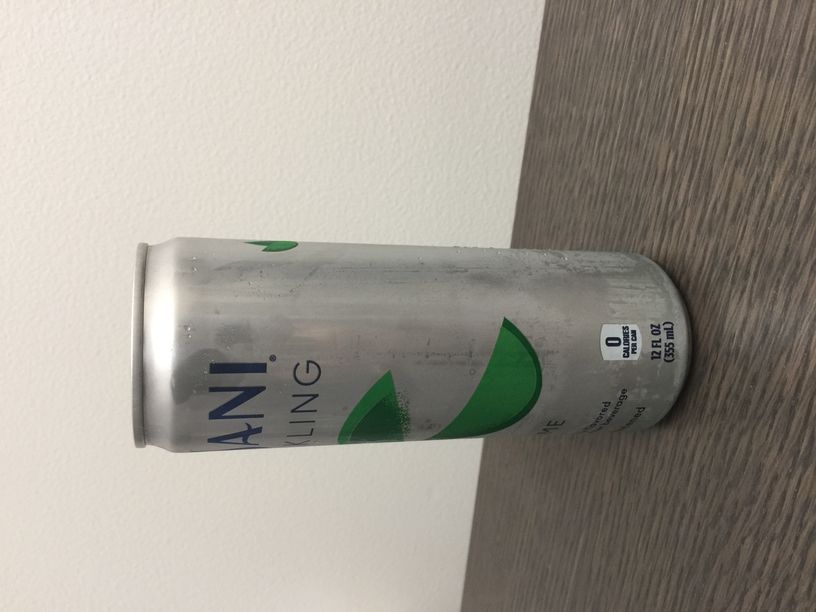lime: (327, 308, 576, 450), (231, 239, 310, 264)
